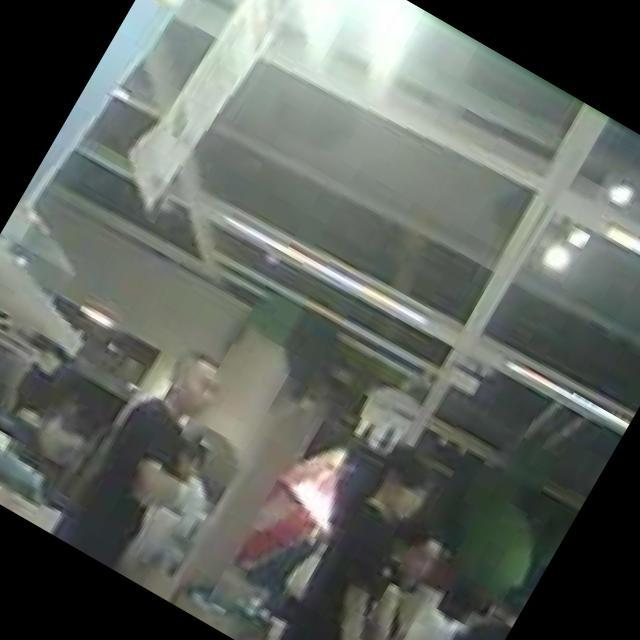person: (54, 337, 246, 580), (260, 433, 476, 640), (319, 518, 480, 640), (141, 431, 241, 551), (400, 574, 531, 640)
